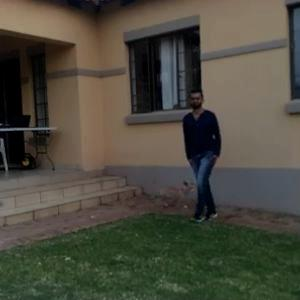follow: (182, 86, 228, 223)
